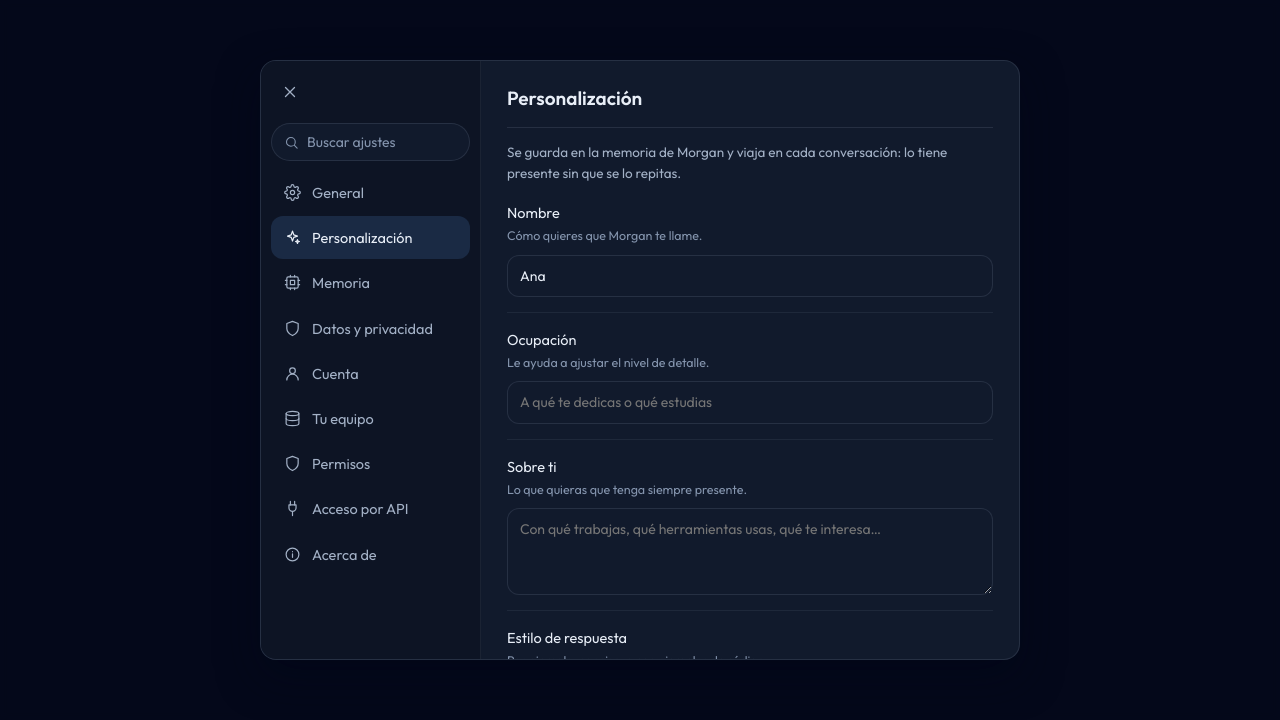
Scenario: El panel de ajustes › guardar el idioma no pisa lo que se está escribiendo en el perfil
This screenshot has width=1280, height=720.
// A medias: sin guardar.
Replace the text in the field showing "Ana" with "Ana María": (750, 276) [507,254,993,297]
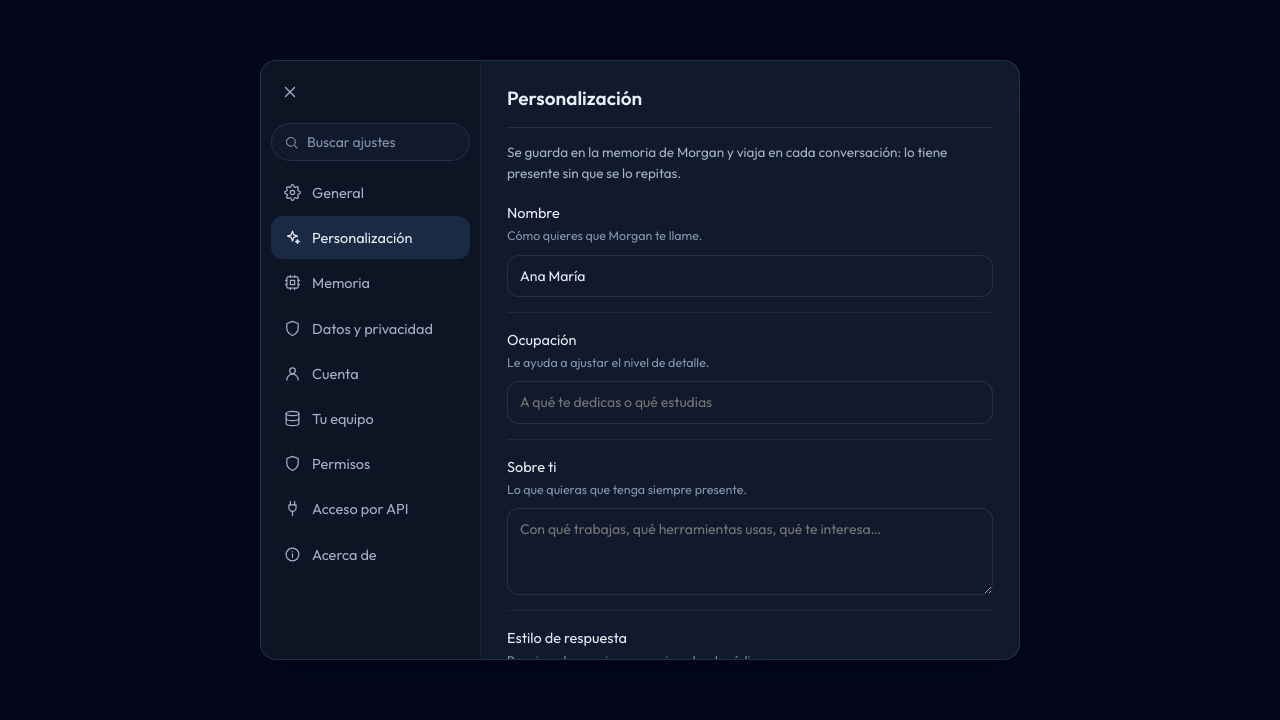
Click the button "General": (370, 193) [271,171,470,214]
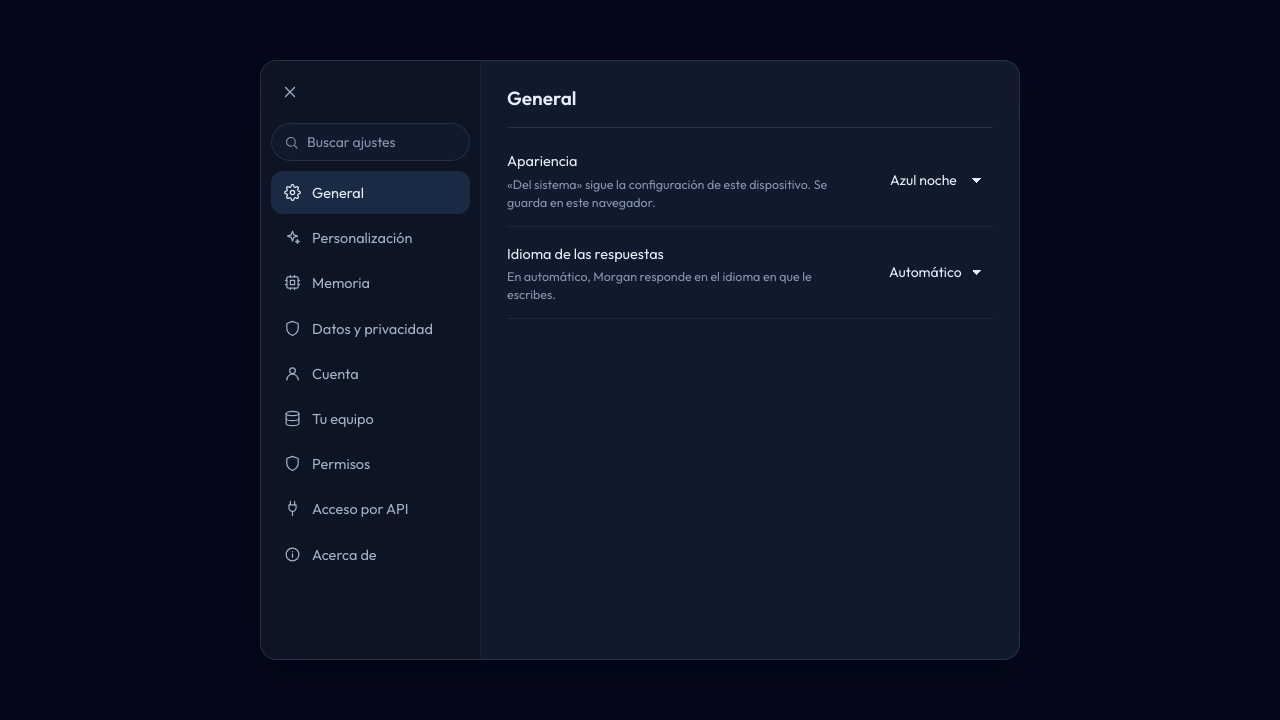
Select "English" in the dropdown named "Idioma de las respuestas": (934, 272) [876,253,993,292]
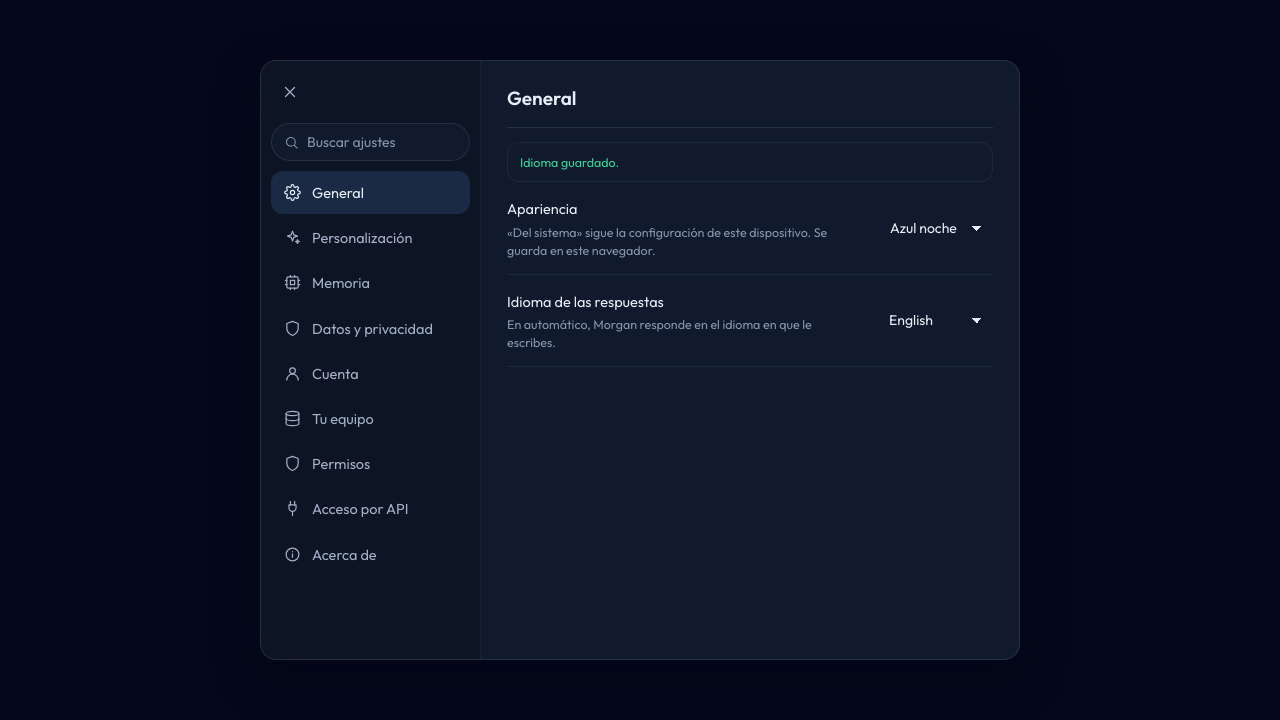
// …y el borrador sigue ahí.
Click the button "Personalización": (370, 238) [271,216,470,259]
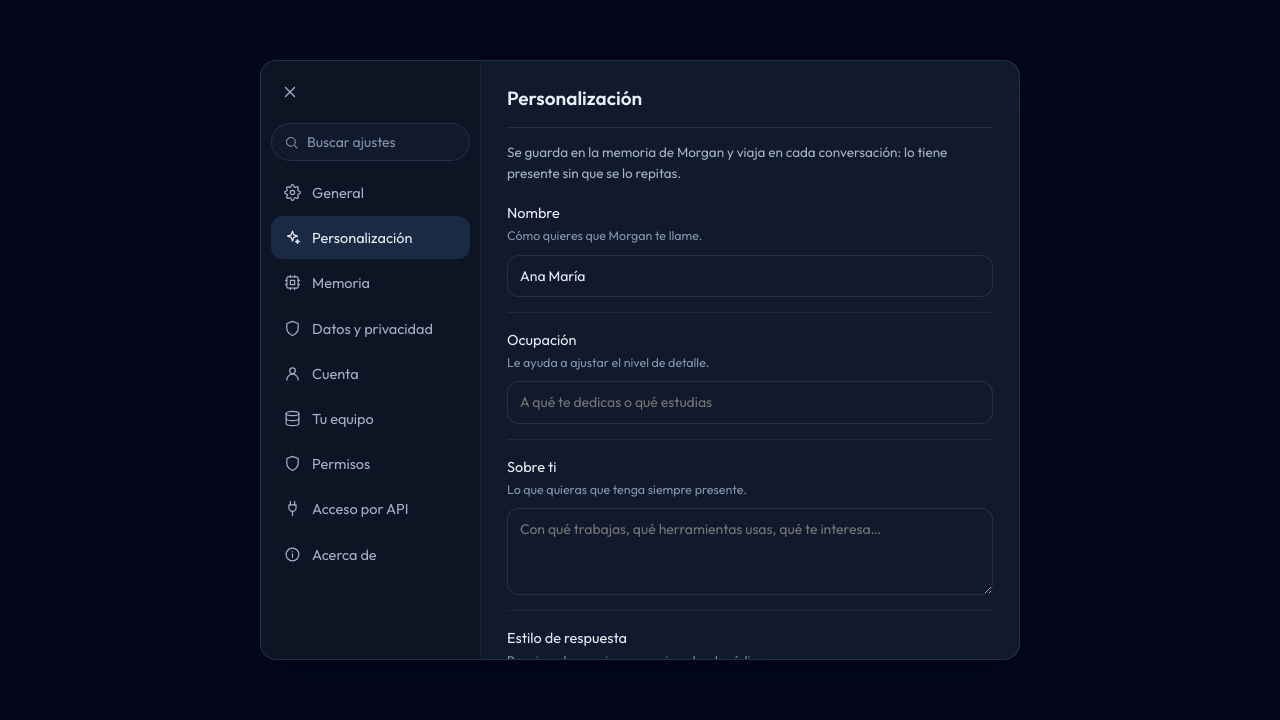
Now the field showing "Ana María" is shown, box [507,254,993,297]
